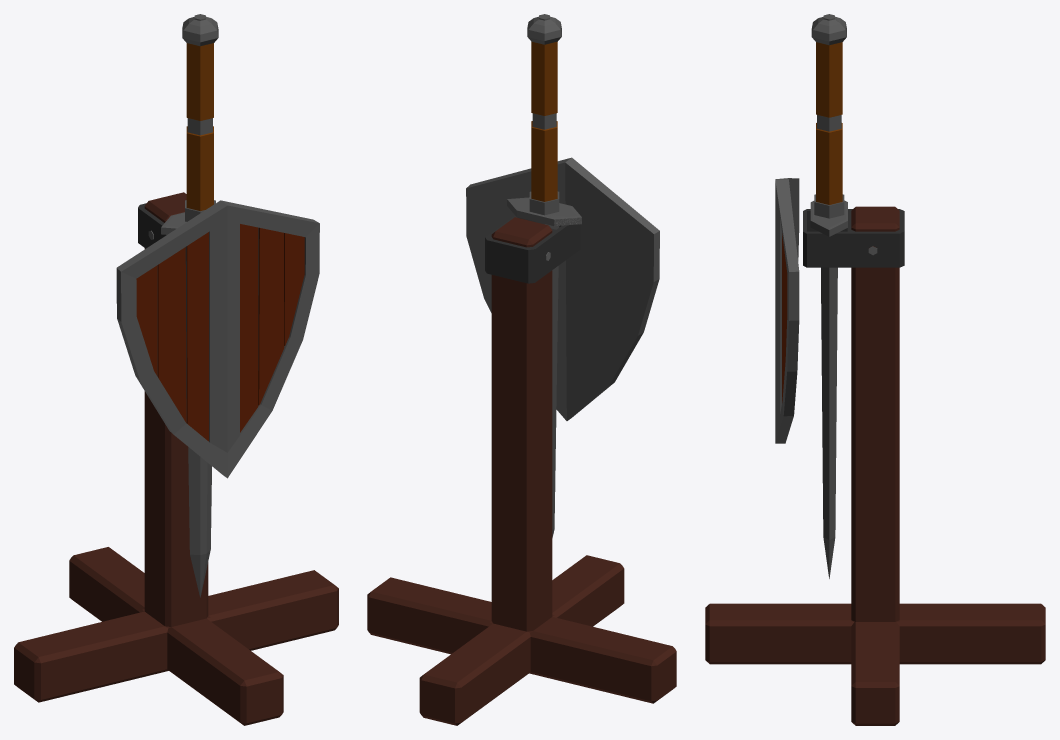
File: shield_rack.glb
The picture shows the model from 3 angles, left to right: view 1: azimuth 30°, elevation 25°; view 2: azimuth 150°, elevation 25°; view 3: azimuth 270°, elevation 25°; orthographic projection. The views are drawn at different scales.
Visible parts, largest first — view 1: Rack, Cylinder, Cylinder.001; view 2: Rack, Cylinder, Cylinder.001; view 3: Rack, Cylinder.001, Cylinder.
Part boxes in pixels (bbox=[...]): Rack: bbox=[14, 192, 338, 725]; Cylinder: bbox=[116, 200, 319, 478]; Cylinder.001: bbox=[161, 14, 218, 597]; Rack: bbox=[367, 215, 676, 725]; Cylinder: bbox=[466, 157, 659, 420]; Cylinder.001: bbox=[507, 14, 581, 537]; Rack: bbox=[705, 206, 1045, 725]; Cylinder.001: bbox=[810, 14, 847, 578]; Cylinder: bbox=[775, 178, 799, 443].
Size of the model in its own units: 1.4 by 2.9 by 1.4.
